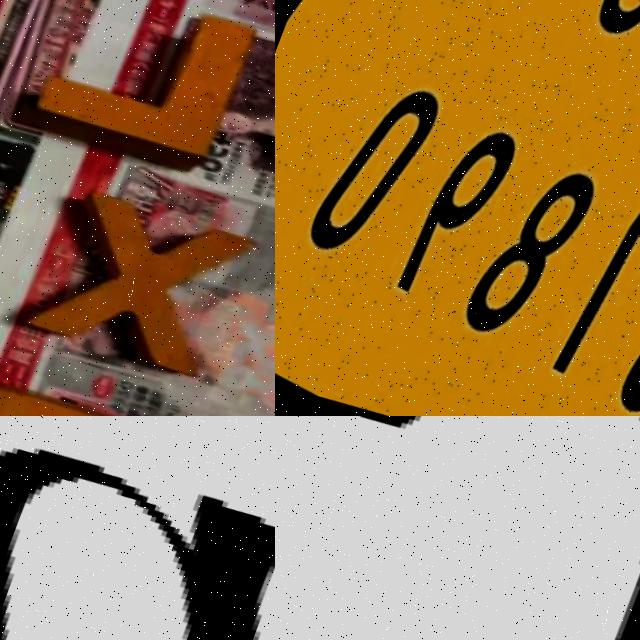0: (275, 32, 478, 305)
6: (589, 172, 640, 416)
7: (519, 152, 640, 416)
8: (437, 115, 636, 386)
9: (356, 75, 554, 347)
L: (27, 0, 267, 203)
N: (0, 416, 275, 640)
X: (29, 184, 252, 403)
